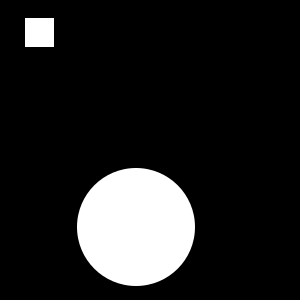circle: (25, 18, 54, 47)
rectangle: (77, 168, 195, 286)
